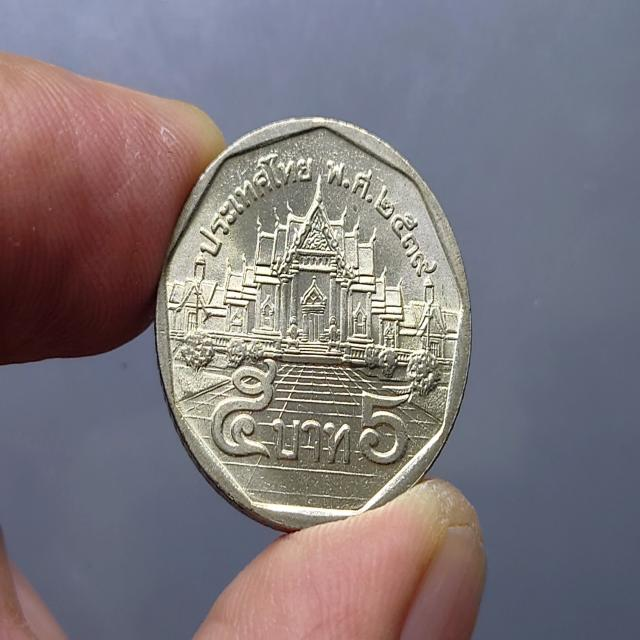5 Bath: (154, 113, 476, 539)
